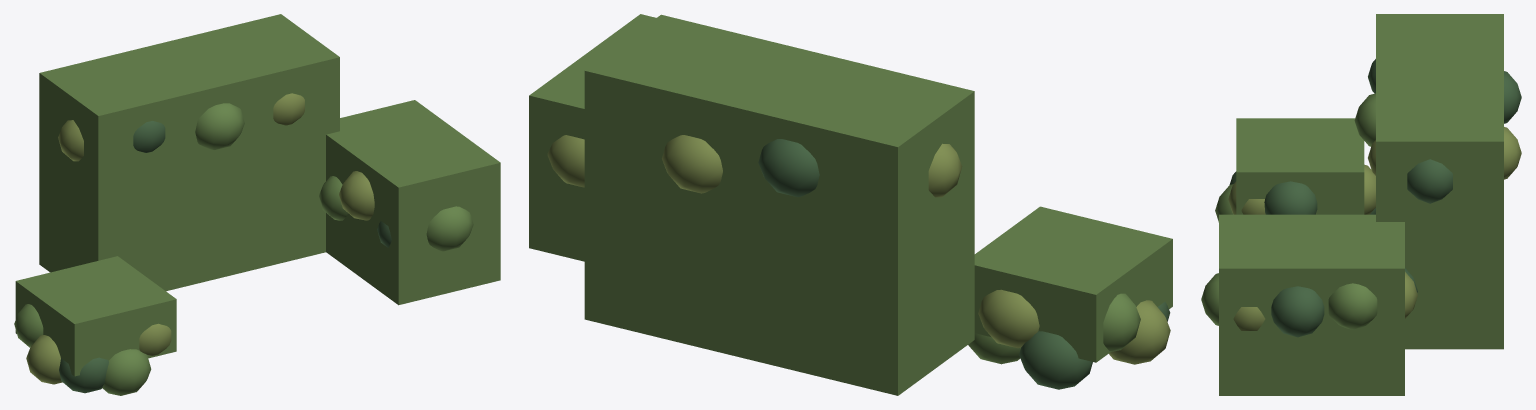
3 views of the same model, side by side, from view 1: azimuth 30°, elevation 25°; view 2: azimuth 150°, elevation 25°; view 3: azimuth 270°, elevation 25° (orthographic). The views are drawn at different scales.
Parts seen in each view (by area): view 1: climb-hedge-7-0, climb-hedge-7-1, 생울타리 08, climb-hedge-7-2; view 2: climb-hedge-7-0, 생울타리 08, climb-hedge-7-2, climb-hedge-7-1; view 3: climb-hedge-7-0, climb-hedge-7-1, 생울타리 08, climb-hedge-7-2.
Boxes of the visible parts, bbox=[...] form: climb-hedge-7-0: bbox=[39, 14, 339, 291]; climb-hedge-7-1: bbox=[326, 100, 500, 305]; 생울타리 08: bbox=[14, 93, 473, 395]; climb-hedge-7-2: bbox=[15, 256, 176, 376]; climb-hedge-7-0: bbox=[584, 14, 974, 395]; 생울타리 08: bbox=[547, 135, 1170, 389]; climb-hedge-7-2: bbox=[974, 206, 1172, 362]; climb-hedge-7-1: bbox=[529, 14, 655, 261]; climb-hedge-7-0: bbox=[1376, 14, 1503, 349]; climb-hedge-7-1: bbox=[1219, 214, 1404, 395]; 생울타리 08: bbox=[1201, 59, 1521, 337]; climb-hedge-7-2: bbox=[1236, 118, 1364, 214].
Bounding box in the file's own units: 4.93 × 2.31 × 2.76.
